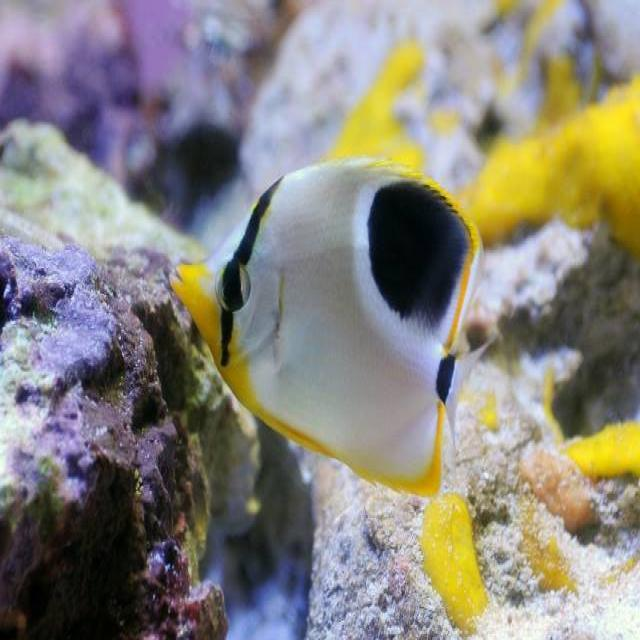ButterflyFish: (166, 158, 494, 497)
